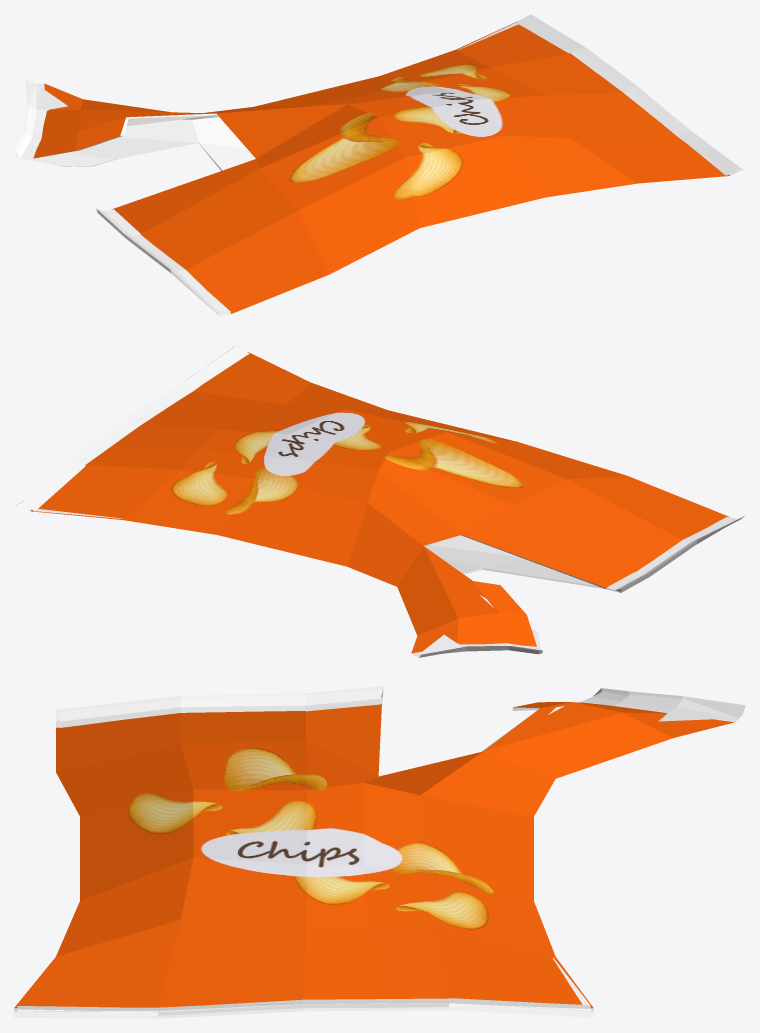
File: chips05.gltf
3 renders of one model, top to bottom at view 1: azimuth 30°, elevation 25°; view 2: azimuth 150°, elevation 25°; view 3: azimuth 270°, elevation 25°, orthographic. The views are drawn at different scales.
Visible parts, largest first — view 1: Cube; view 2: Cube; view 3: Cube.
Boxes of the visible parts, x1,y1,x2,y2 form: Cube: [14, 14, 744, 316]; Cube: [16, 345, 744, 657]; Cube: [14, 686, 745, 1018].
Size of the model in its own units: 3.27 by 0.5117 by 2.93.
Materials: 2 (1 with a texture image).
